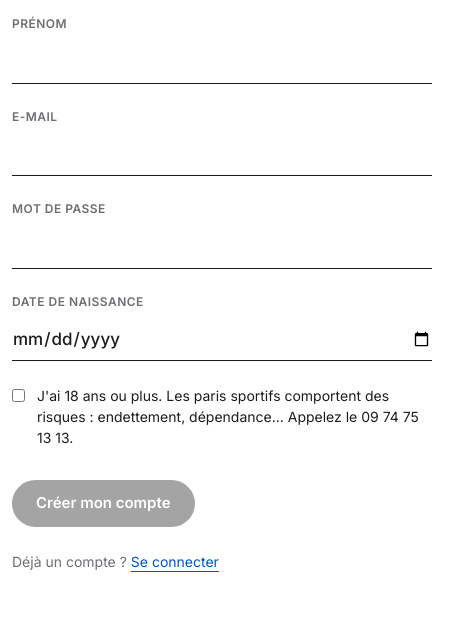
AuthForm › inscription refusée avant 18 ans : le message de l'API s'affiche
In the field labelled "Prénom": [222, 62] box [12,41,432,84], type "Jeune"
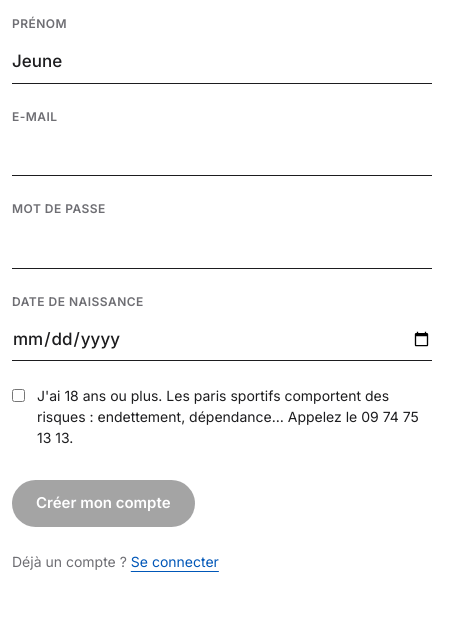
In the field labelled "E-mail": [222, 155] box [12,134,432,176], type "j@t.fr"
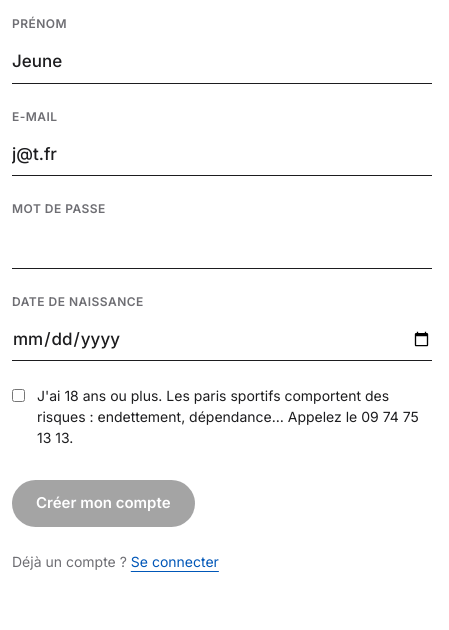
In the password field labelled "Mot de passe": [222, 247] box [12,226,432,268], type "motdepasse123"
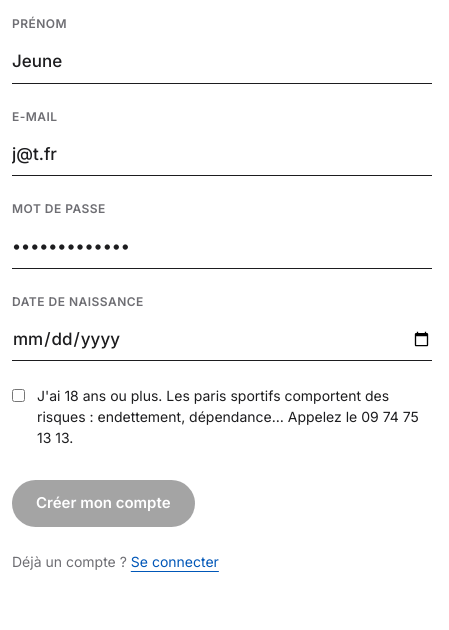
In the date field labelled "Date de naissance": [222, 340] box [12,318,432,361], type "2015-01-01"
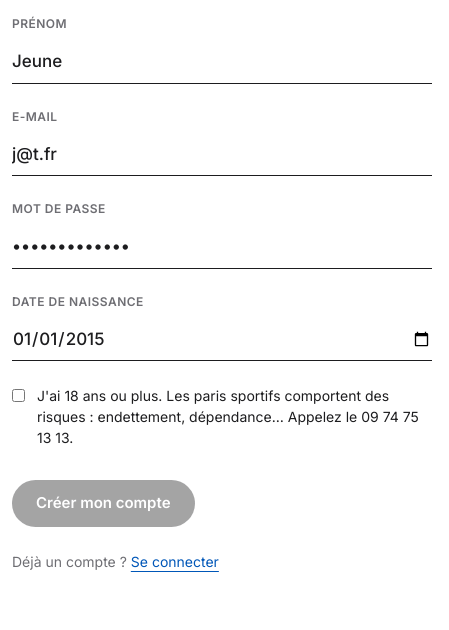
Click the checkbox labelled "J'ai 18 ans ou plus": [18, 396] box [12,389,25,402]
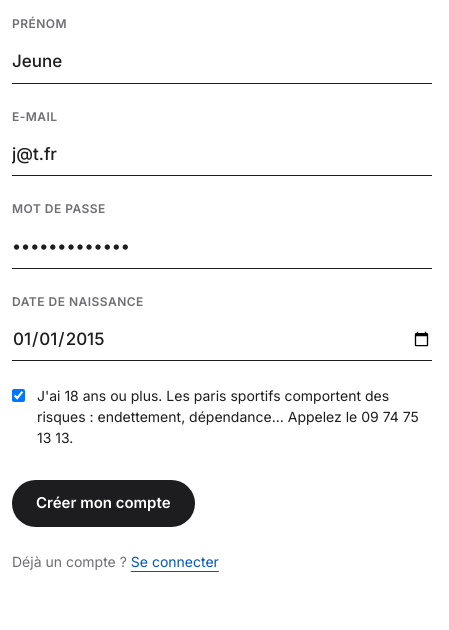
Click the button "Créer mon compte": [103, 503] box [12,480,194,526]
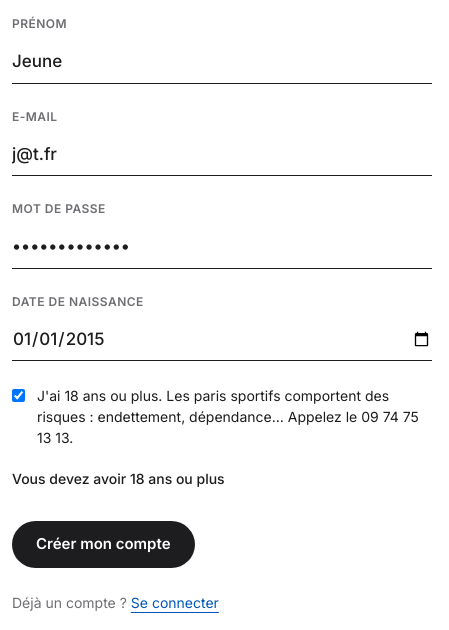
Expected: the text "Vous devez avoir 18 ans ou plus" is shown, [12,470,225,487]
